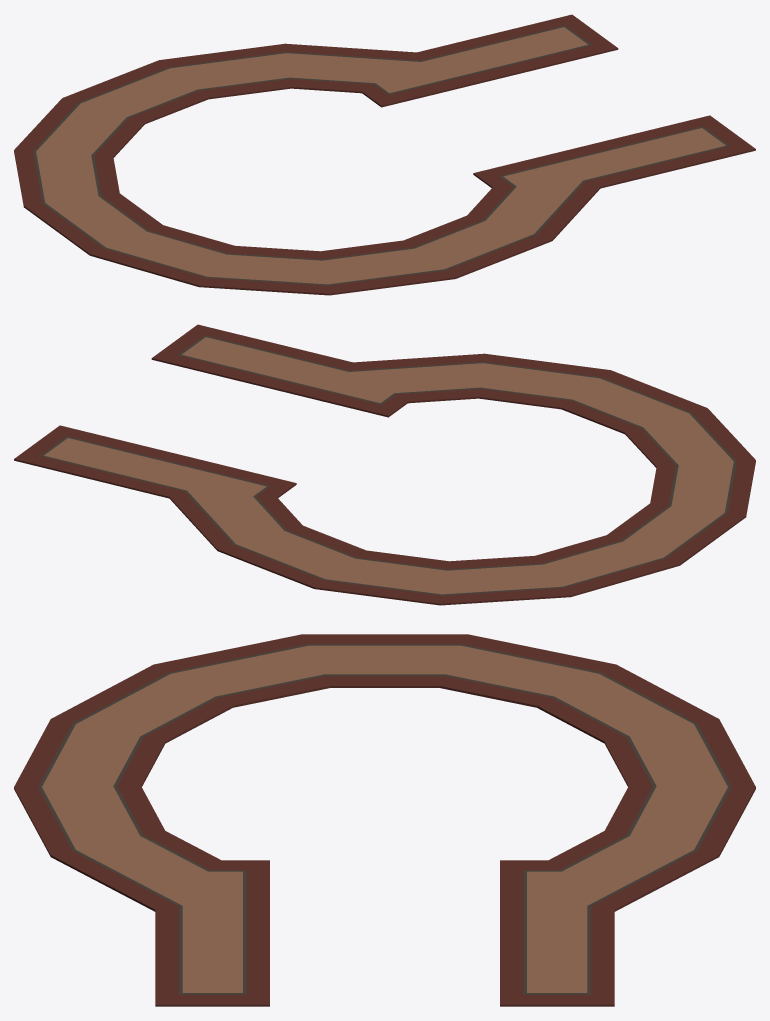
File: 03_SegundoPiso.fbx
3 views of the same model, one above another, from view 1: azimuth 30°, elevation 25°; view 2: azimuth 150°, elevation 25°; view 3: azimuth 270°, elevation 25° (orthographic). The views are drawn at different scales.
Parts seen in each view (by area): view 1: 03_SegundoPiso; view 2: 03_SegundoPiso; view 3: 03_SegundoPiso.
Boxes of the visible parts, <box> form: 03_SegundoPiso: <box>14,14,755,295</box>; 03_SegundoPiso: <box>14,324,755,605</box>; 03_SegundoPiso: <box>14,634,755,1006</box>.
Bounding box in the file's own units: 6835 × 17.93 × 5786.
